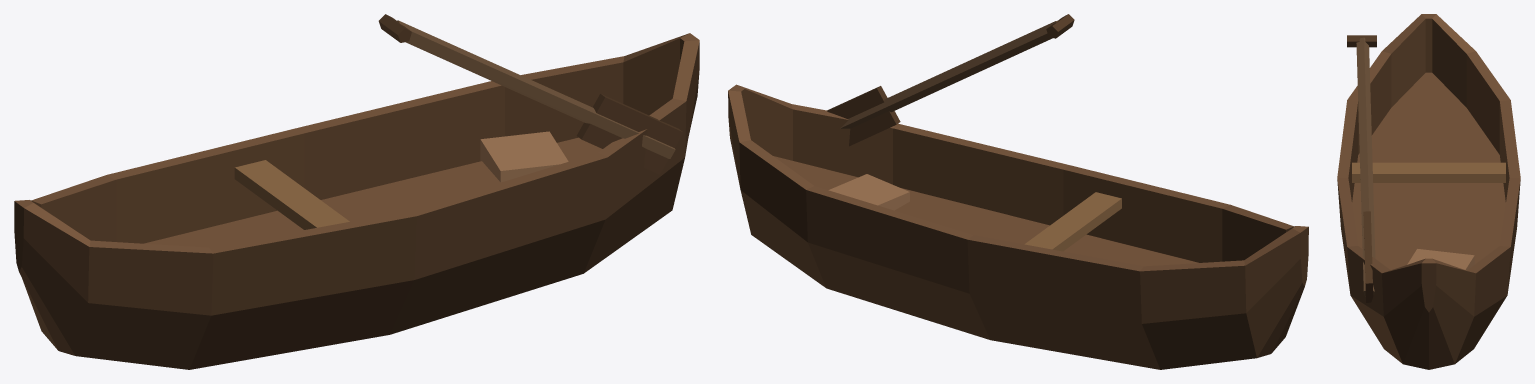
The model's file is canoe.glb.
3 renders of one model, left to right at view 1: azimuth 30°, elevation 25°; view 2: azimuth 150°, elevation 25°; view 3: azimuth 270°, elevation 25°, orthographic. The views are drawn at different scales.
Visible parts, largest first — view 1: canoe; view 2: canoe; view 3: canoe.
Part boxes in pixels (x1,y1,x2,y2): canoe: (14, 14, 699, 369); canoe: (728, 14, 1308, 369); canoe: (1337, 14, 1520, 369).
Bounding box in the file's own units: 2.4 × 1.12 × 0.74.
